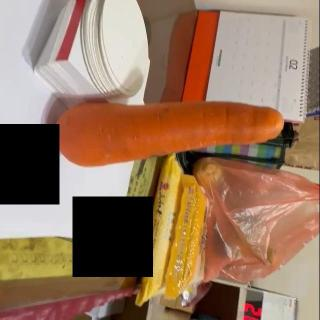carrot: (51, 100, 285, 172)
